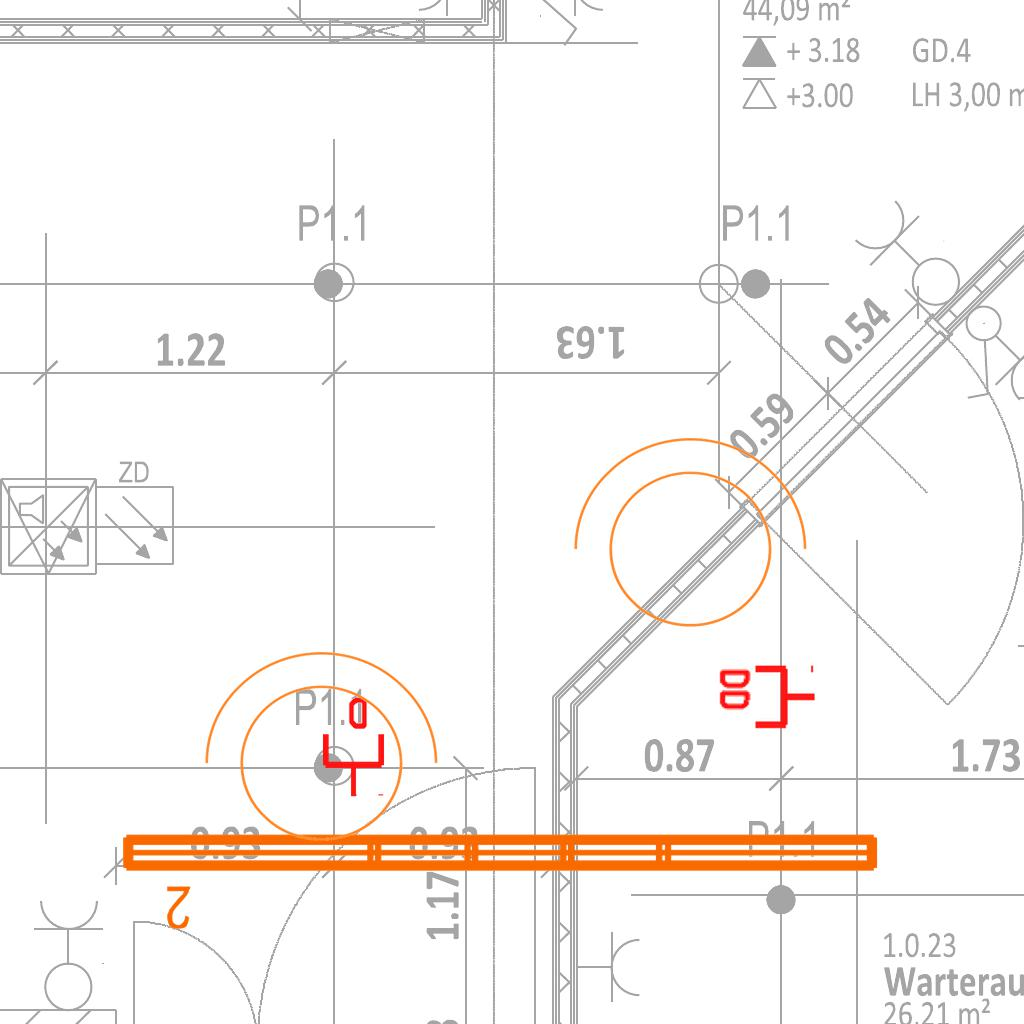Ambulanz_Pendelleuchte_LED: (114, 822, 888, 934)
Datenanschluss_einfach: (319, 698, 388, 798)
Datenanschluss_zweifach: (715, 664, 818, 733)
Scheinwerfer_fuer_Alarmbeleuchtung: (552, 427, 816, 652), (183, 641, 447, 866)
